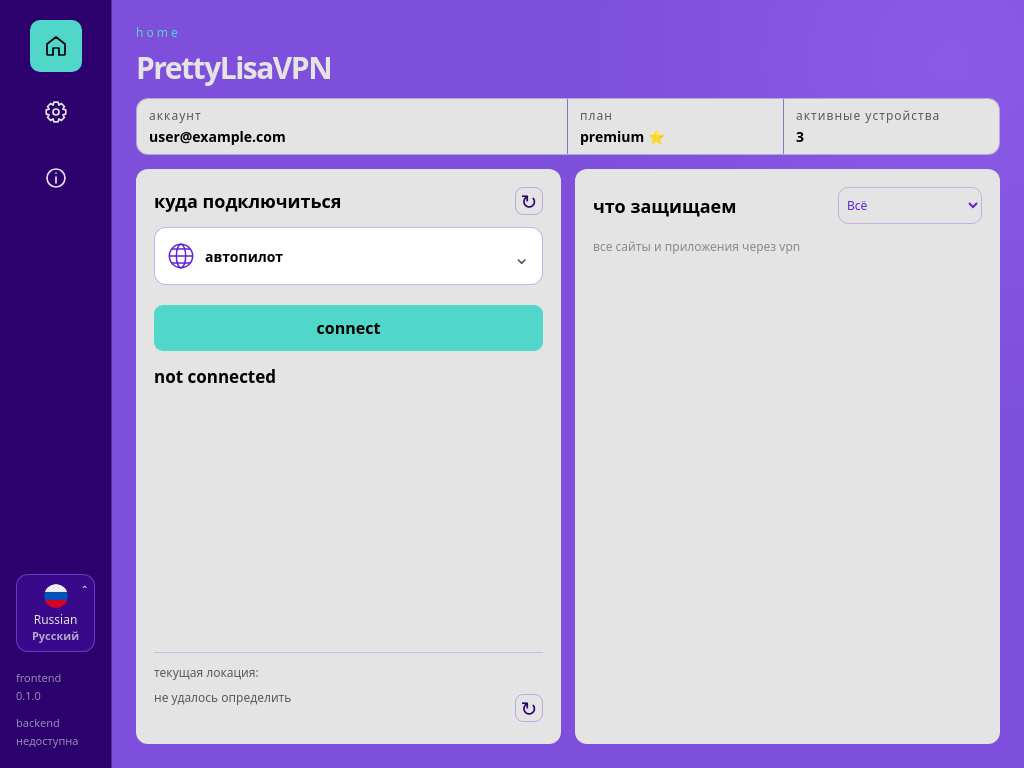
authenticated Home › refreshes plan and device count when returning Home
Click the link named "настройки": (56,112) x1=44 y1=100 x2=68 y2=124
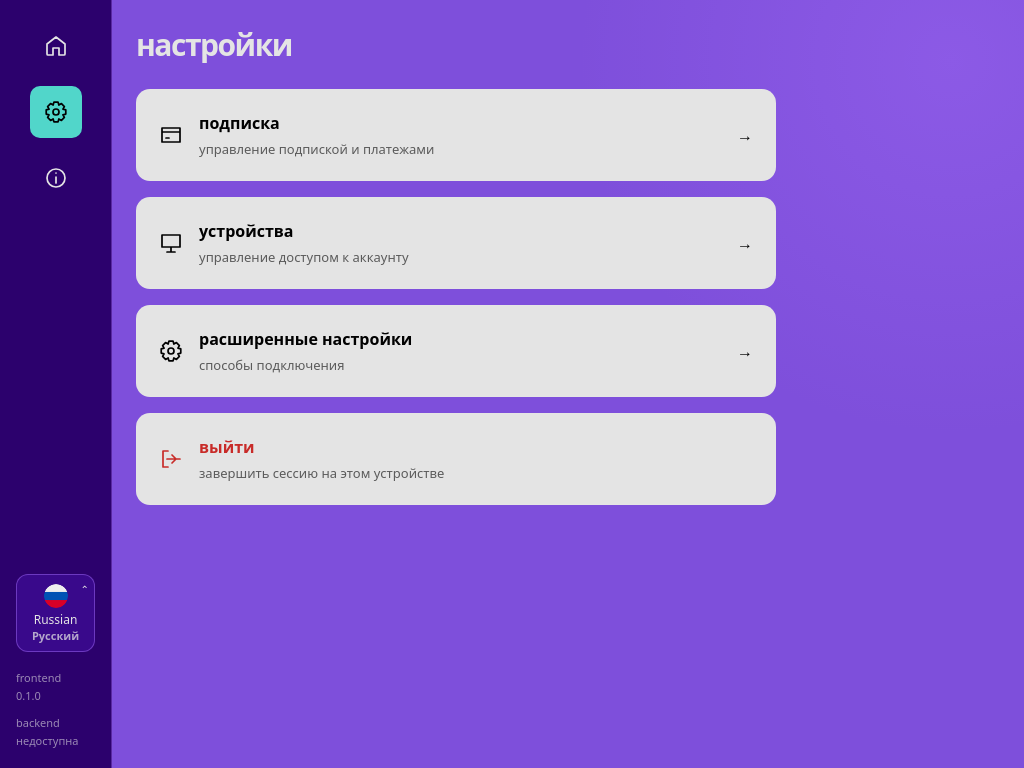
Click the link named "главная": (56,46) x1=44 y1=34 x2=68 y2=58
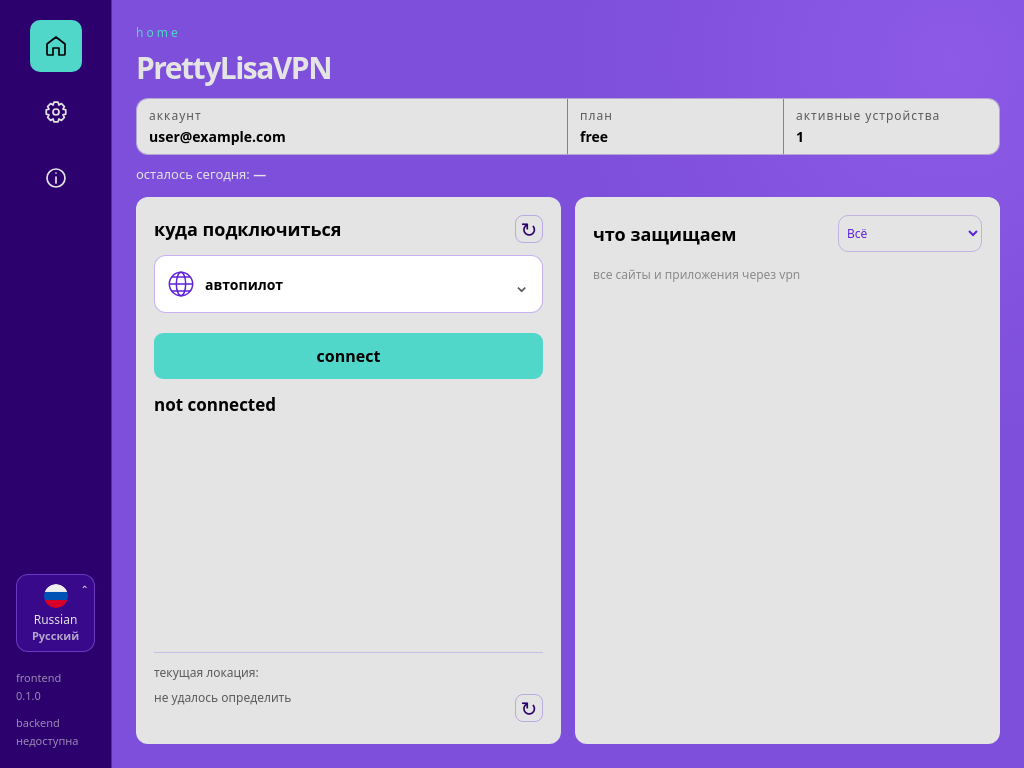
Expected: the text "PREMIUM ⭐" is not shown
Result: the text "FREE" is shown at x1=580 y1=127 x2=608 y2=146
Result: the text "1" is shown at x1=796 y1=127 x2=804 y2=146
